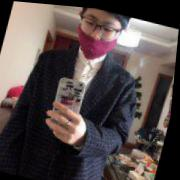WRONG: (73, 9, 126, 62)
